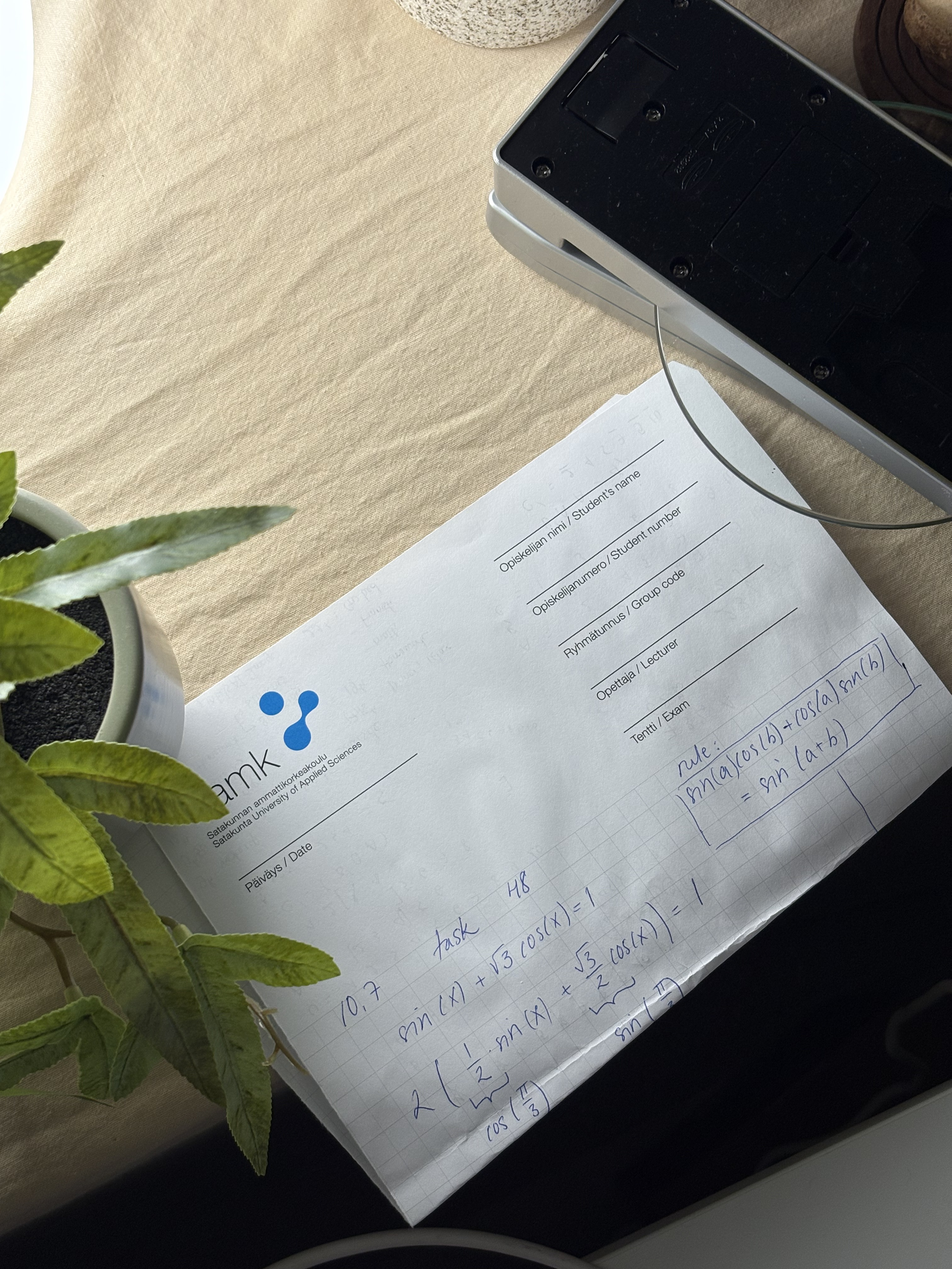paper: (102, 366, 948, 1225)
